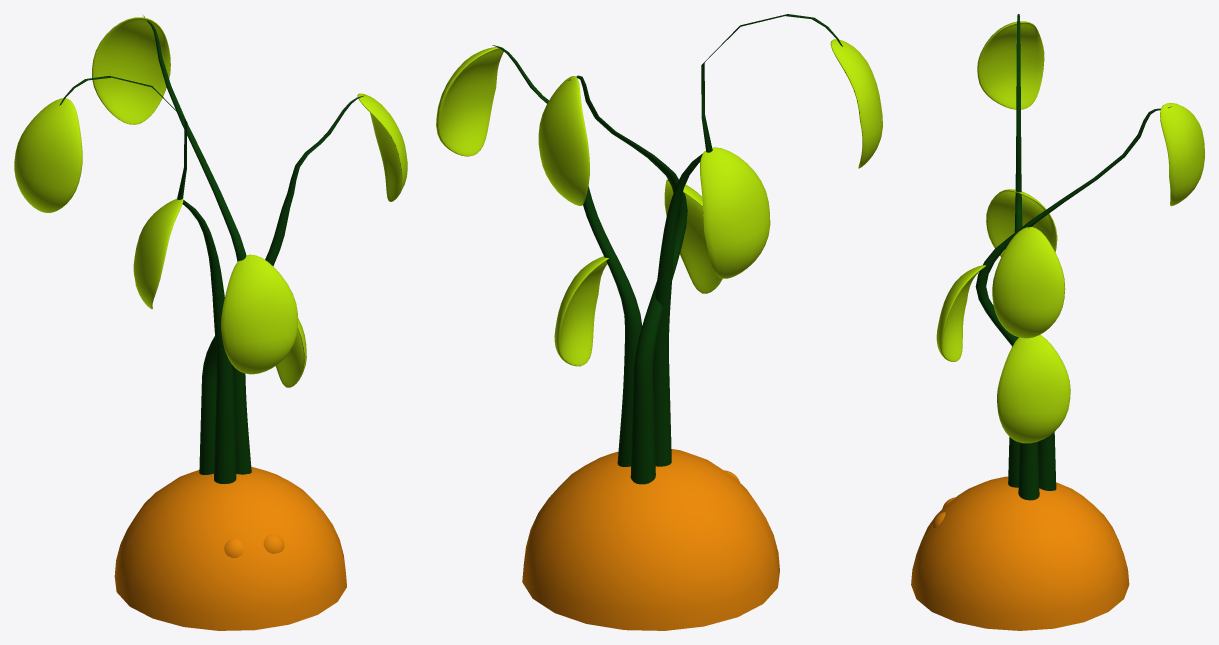
Rendered from Plant 3 stage 2.fbx.
3 renders of one model, left to right at view 1: azimuth 30°, elevation 25°; view 2: azimuth 150°, elevation 25°; view 3: azimuth 270°, elevation 25°, orthographic. The views are drawn at different scales.
Visible parts, largest first — view 1: pSphere1, pasted__pasted__pSphere2 (×3), pasted__pCone1 (×2), pSphere2, pCone1, pasted__pSphere2, pasted__pasted__pasted__pSphere2; view 2: pSphere1, pasted__pasted__pSphere2 (×3), pasted__pCone1 (×2), pasted__pSphere2, pCone1, pasted__pasted__pasted__pSphere2, pSphere2; view 3: pSphere1, pasted__pasted__pSphere2 (×3), pasted__pasted__pasted__pSphere2, pSphere2, pasted__pCone1 (×2), pasted__pSphere2, pCone1.
Part boxes in pixels (x1,y1,x2,y2): pSphere1: (114, 467, 346, 630); pasted__pasted__pSphere2 (×3): (92, 17, 407, 374); pasted__pCone1 (×2): (143, 15, 364, 474); pSphere2: (14, 98, 82, 212); pCone1: (59, 75, 236, 483); pasted__pSphere2: (133, 198, 183, 309); pasted__pasted__pasted__pSphere2: (275, 318, 306, 387); pSphere1: (522, 449, 779, 630); pasted__pasted__pSphere2 (×3): (436, 47, 722, 293); pasted__pCone1 (×2): (492, 45, 687, 484); pasted__pSphere2: (700, 147, 770, 278); pCone1: (653, 14, 842, 466); pasted__pasted__pasted__pSphere2: (554, 256, 608, 366); pSphere2: (830, 39, 882, 168); pSphere1: (911, 476, 1129, 630); pasted__pasted__pSphere2 (×3): (936, 103, 1204, 361); pasted__pasted__pasted__pSphere2: (997, 335, 1070, 443); pSphere2: (977, 21, 1044, 109); pasted__pCone1 (×2): (975, 106, 1171, 500); pasted__pSphere2: (986, 189, 1057, 256); pCone1: (1008, 14, 1022, 487).
Bounding box in the file's own units: 3.79 × 5.09 × 2.69.
